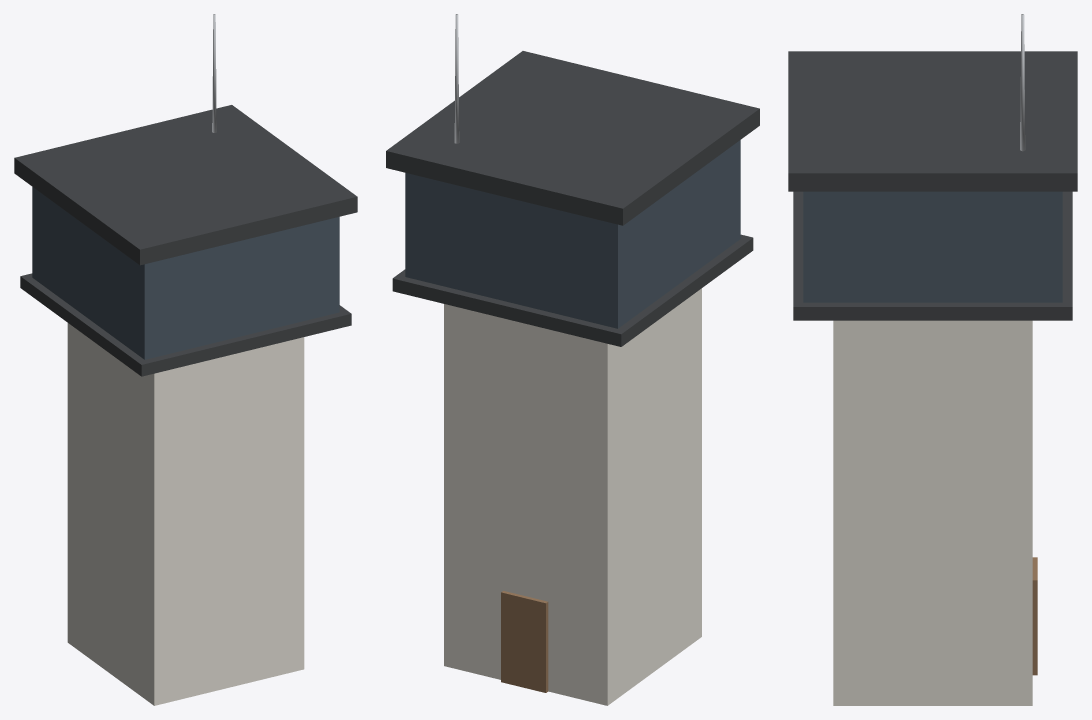
Rendered from tower.glb.
The picture shows the model from 3 angles, left to right: view 1: azimuth 30°, elevation 25°; view 2: azimuth 150°, elevation 25°; view 3: azimuth 270°, elevation 25°; orthographic projection. The views are drawn at different scales.
Parts seen in each view (by area): view 1: TowerBase, TowerRoof, TowerCab, TowerFloor; view 2: TowerBase, TowerRoof, TowerCab, TowerFloor, TowerDoor; view 3: TowerBase, TowerRoof, TowerCab, TowerFloor, TowerDoor, Antenna.
Boxes of the visible parts, bbox=[...] form: TowerBase: bbox=[67, 323, 304, 705]; TowerRoof: bbox=[14, 105, 357, 265]; TowerCab: bbox=[32, 187, 339, 359]; TowerFloor: bbox=[20, 273, 351, 376]; TowerBase: bbox=[444, 288, 701, 705]; TowerRoof: bbox=[386, 51, 759, 225]; TowerCab: bbox=[405, 140, 740, 328]; TowerFloor: bbox=[392, 234, 753, 346]; TowerDoor: bbox=[501, 591, 548, 692]; TowerBase: bbox=[833, 320, 1032, 705]; TowerRoof: bbox=[788, 51, 1077, 191]; TowerCab: bbox=[803, 191, 1062, 302]; TowerFloor: bbox=[793, 191, 1072, 320]; TowerDoor: bbox=[1032, 557, 1037, 675]; Antenna: bbox=[1020, 14, 1025, 151].
Bounding box in the file's own units: 5.8 × 15.2 × 5.8.
